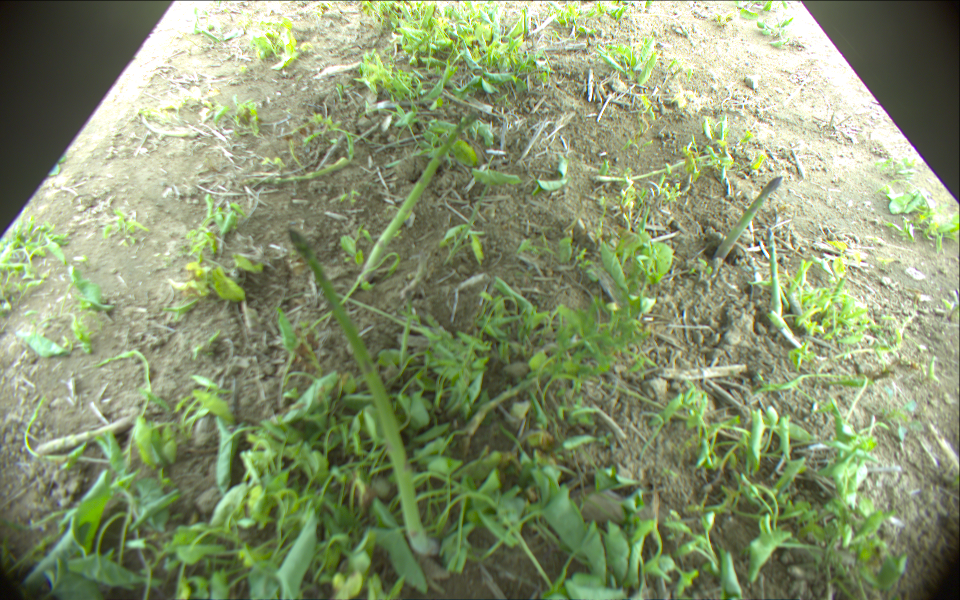aspa: (288, 229, 444, 555), (358, 110, 478, 287), (712, 176, 785, 263), (244, 156, 350, 187), (767, 228, 784, 322)
